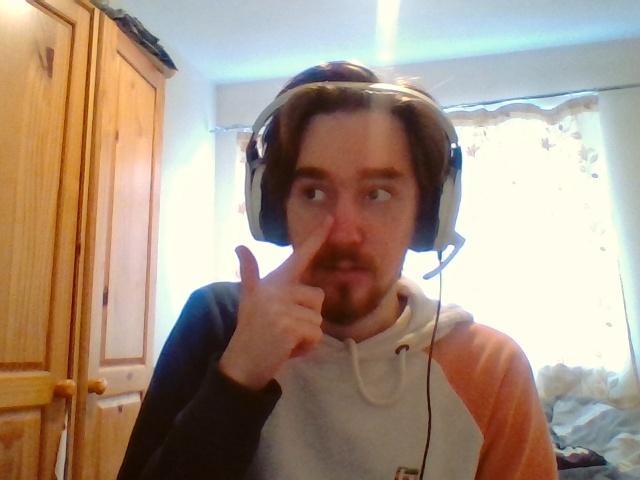luck: (235, 215, 335, 354)
